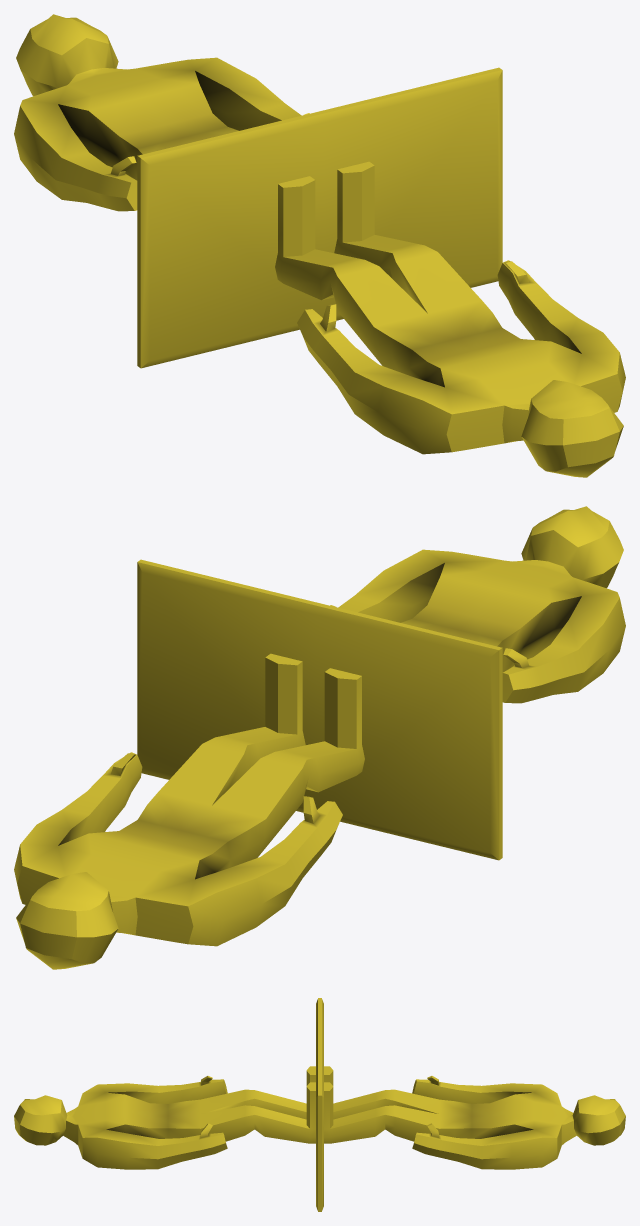
File: PuzzleSymbol1.fbx
3 renders of one model, top to bottom at view 1: azimuth 30°, elevation 25°; view 2: azimuth 150°, elevation 25°; view 3: azimuth 270°, elevation 25°, orthographic. The views are drawn at different scales.
Parts seen in each view (by area): view 1: PuzzleSymbol; view 2: PuzzleSymbol; view 3: PuzzleSymbol.
Part boxes in pixels (x1,y1,x2,y2): PuzzleSymbol: [14, 14, 625, 477]; PuzzleSymbol: [14, 506, 625, 969]; PuzzleSymbol: [14, 998, 625, 1211].
Size of the model in its own units: 208 by 115 by 551.
